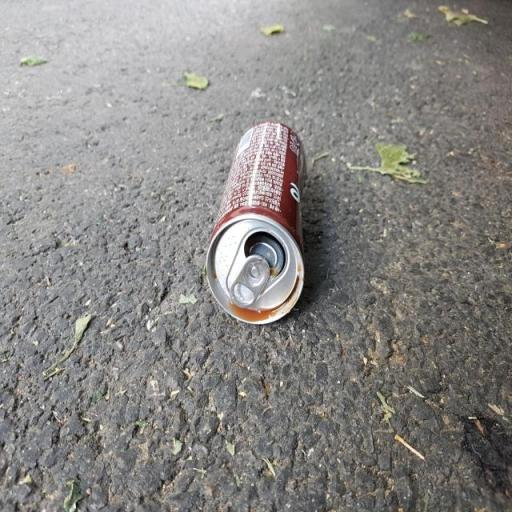metal: (197, 115, 322, 367)
